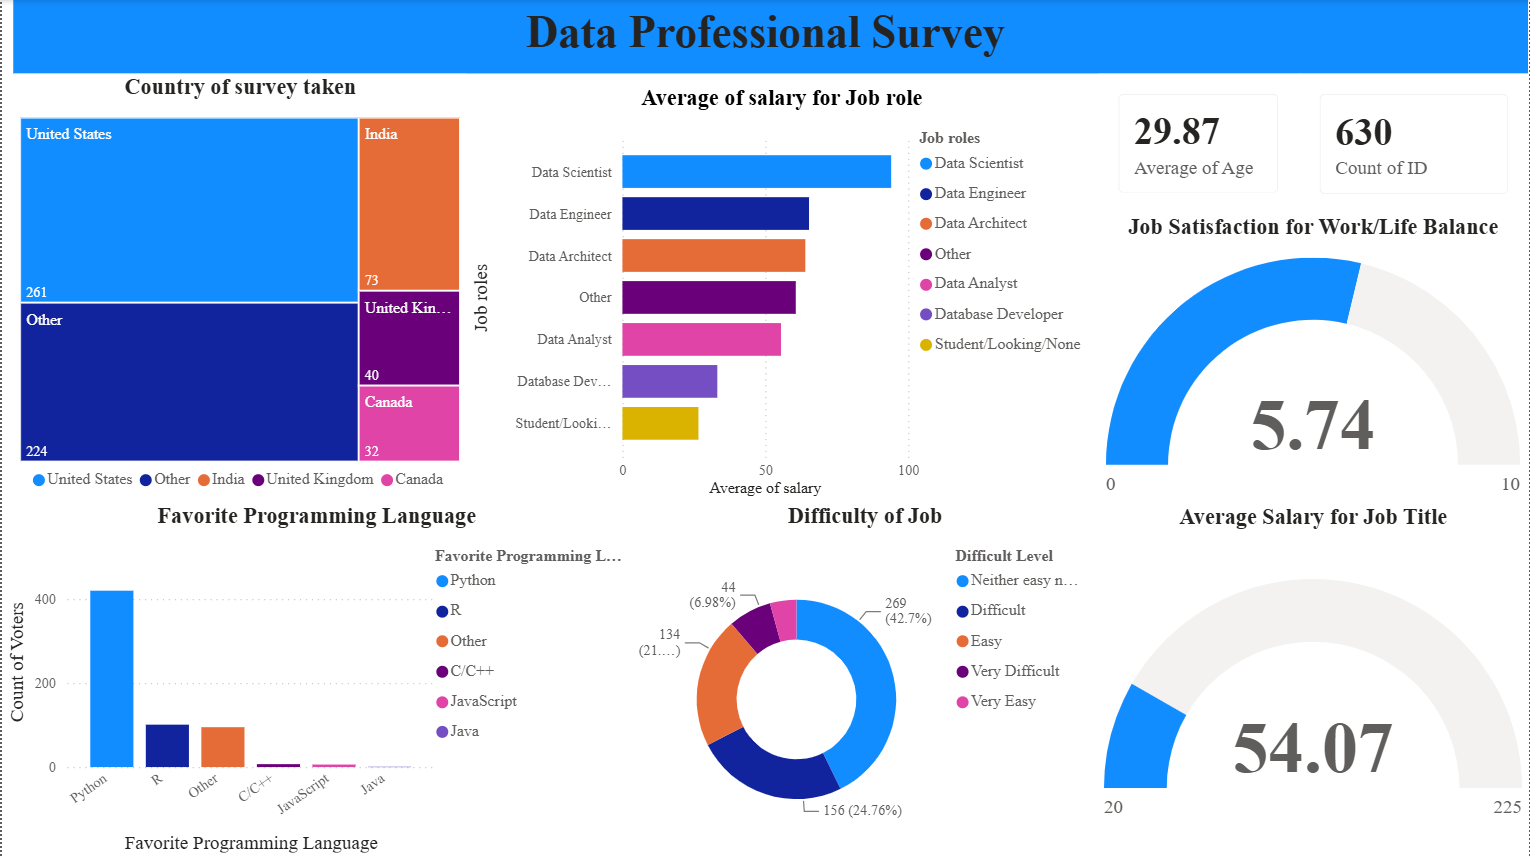

What the dashboard file says about the page in this screenshot:
{"tool":"powerbi","page":{"name":"Page 1","canvas":[1280,720],"ordinal":0},"visuals":[{"type":"textbox","box":[9.6,0,1270.7,61.7],"z":0},{"type":"cardVisual","fields":{"Data":["Count(Data Professional Survey.Unique ID)"]},"box":[1088.2,61.7,192.1,118],"z":1000},{"type":"cardVisual","fields":{"Data":["Avg(Data Professional Survey.Q10 - Current Age)"]},"box":[919.2,62.2,168.5,117.6],"z":2000},{"type":"barChart","title":"Average of salary for Job role","fields":{"Category":["Data Professional Survey.Q1 - Which Title Best Fits your Current Role?.1"],"Y":["Avg(Data Professional Survey.Average_salary)"],"Series":["Data Professional Survey.Q1 - Which Title Best Fits your Current Role?.1"]},"box":[388.9,71.2,530.3,350.5],"z":3000},{"type":"gauge","title":"Job Satisfaction for Work/Life Balance","fields":{"Y":["Avg(Data Professional Survey.Q6 - How Happy are you in your Current Position with the following? (Work/Life Balance))"],"MinValue":["Min(Data Professional Survey.Q6 - How Happy are you in your Current Position with the following? (Work/Life Balance))"],"MaxValue":["Max(Data Professional Survey.Q6 - How Happy are you in your Current Position with the following? (Work/Life Balance))"]},"box":[919.2,179.8,360.7,243.1],"z":4000},{"type":"gauge","title":"Average Salary for Job Title","fields":{"MinValue":["Min(Data Professional Survey.Average_salary)"],"Y":["Avg(Data Professional Survey.Average_salary)"],"MaxValue":["Max(Data Professional Survey.Average_salary)"]},"box":[919.2,422.9,360.7,297.4],"z":5000},{"type":"donutChart","title":"Difficulty of Job","fields":{"Y":["CountNonNull(Data Professional Survey.Q7 - How difficult was it for you to break into Data?)"],"Category":["Data Professional Survey.Q7 - How difficult was it for you to break into Data?"]},"box":[528,421.7,391.2,298.5],"z":6000},{"type":"treemap","title":"Country of survey taken","fields":{"Values":["CountNonNull(Data Professional Survey.Q11 - Which Country do you live in?.1)"],"Group":["Data Professional Survey.Q11 - Which Country do you live in?.1"]},"box":[10.2,62.2,378.8,359.5],"z":7000},{"type":"columnChart","title":"Favorite Programming Language ","fields":{"Y":["CountNonNull(Data Professional Survey.Unique ID)"],"Category":["Data Professional Survey.Q5 - Favorite Programming Language.1"],"Series":["Data Professional Survey.Q5 - Favorite Programming Language.1"]},"box":[0,421.7,528,298.5],"z":8000}]}

Visuals, with their boxes in screenshot pixels (x1, y1, x2, y2), scaled from the page's 1280x720 canvas onto the 1530x856 screenshot:
textbox: <bbox>11, 0, 1529, 73</bbox>
cardVisual - Count(Data Professional Survey.Unique ID): <bbox>1301, 73, 1529, 214</bbox>
cardVisual - Avg(Data Professional Survey.Q10 - Current Age): <bbox>1099, 74, 1300, 214</bbox>
"Average of salary for Job role" barChart: <bbox>465, 85, 1099, 501</bbox>
"Job Satisfaction for Work/Life Balance" gauge: <bbox>1099, 214, 1529, 503</bbox>
"Average Salary for Job Title" gauge: <bbox>1099, 503, 1529, 855</bbox>
"Difficulty of Job" donutChart: <bbox>631, 501, 1099, 855</bbox>
"Country of survey taken" treemap: <bbox>12, 74, 465, 501</bbox>
"Favorite Programming Language " columnChart: <bbox>0, 501, 631, 855</bbox>
